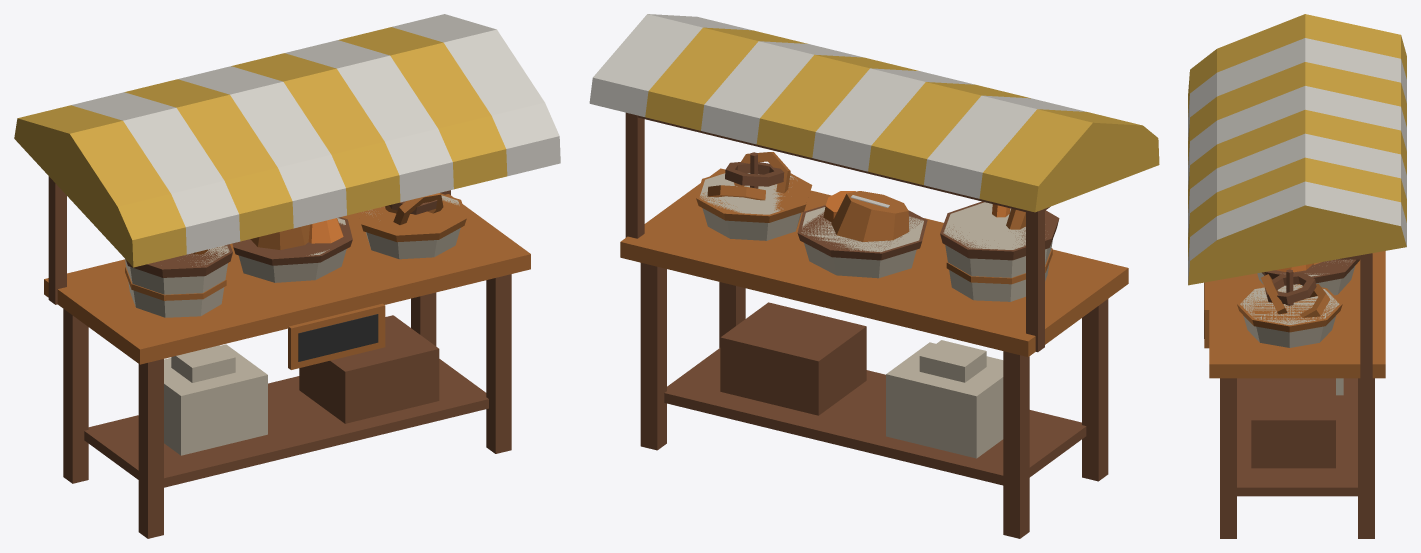
The model's file is firin_standi.glb.
3 renders of one model, left to right at view 1: azimuth 30°, elevation 25°; view 2: azimuth 150°, elevation 25°; view 3: azimuth 270°, elevation 25°, orthographic. The views are drawn at different scales.
Visible parts, largest first — view 1: firin_standi; view 2: firin_standi; view 3: firin_standi.
Part boxes in pixels (<box>): firin_standi: <box>14,14,560,538</box>; firin_standi: <box>589,14,1159,538</box>; firin_standi: <box>1188,14,1406,538</box>.
Bounding box in the file's own units: 1.18 × 1 × 0.57.
